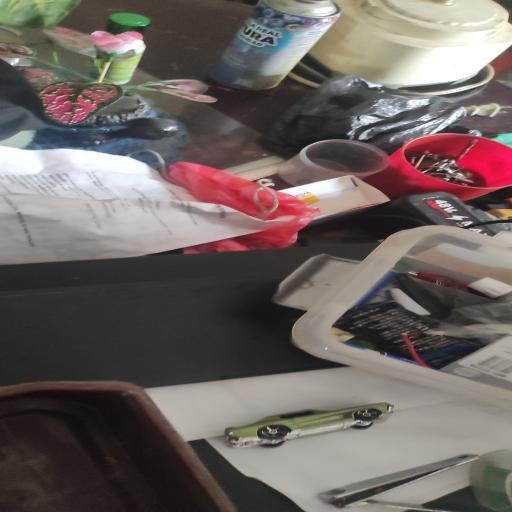Carrito: (225, 402, 393, 448)
